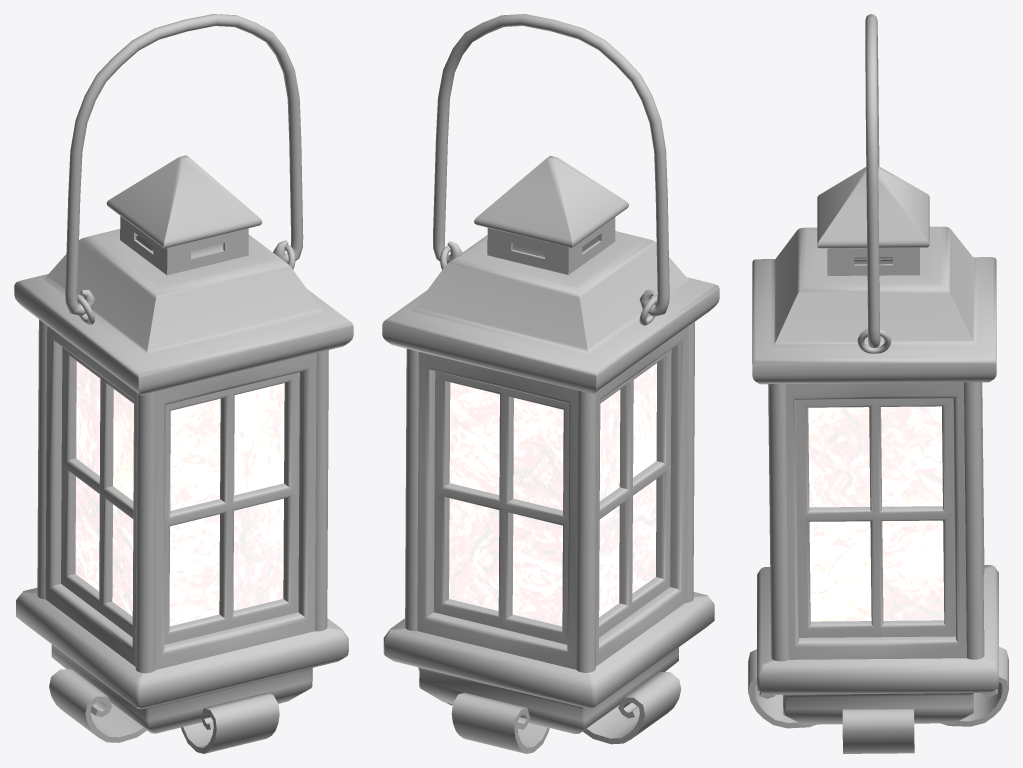
3 views of the same model, side by side, from view 1: azimuth 30°, elevation 25°; view 2: azimuth 150°, elevation 25°; view 3: azimuth 270°, elevation 25° (orthographic).
Parts seen in each view (by area): view 1: lantern1; view 2: lantern1; view 3: lantern1.
Part boxes in pixels (bbox=[...]): lantern1: bbox=[14, 14, 353, 753]; lantern1: bbox=[382, 14, 719, 753]; lantern1: bbox=[748, 14, 1008, 753].
Bounding box in the file's own units: 0.2923 × 0.819 × 0.2838.
